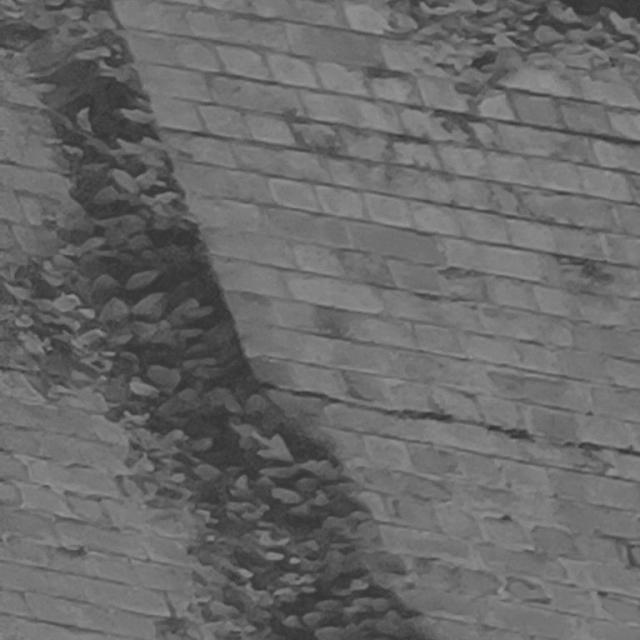crack: (257, 380, 640, 456)
